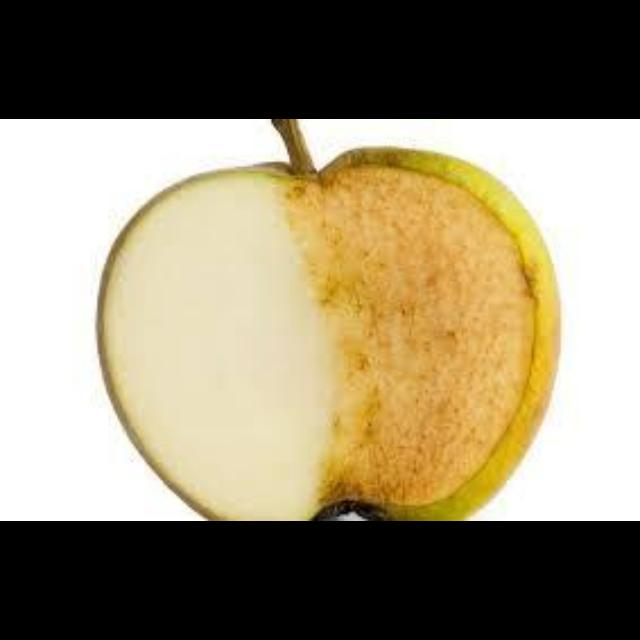apple: (97, 119, 556, 519)
